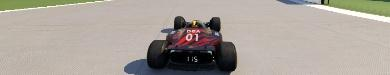Car: (146, 15, 237, 71)
curve: (0, 0, 389, 74)
obstacles-Borders: (275, 0, 329, 4)
